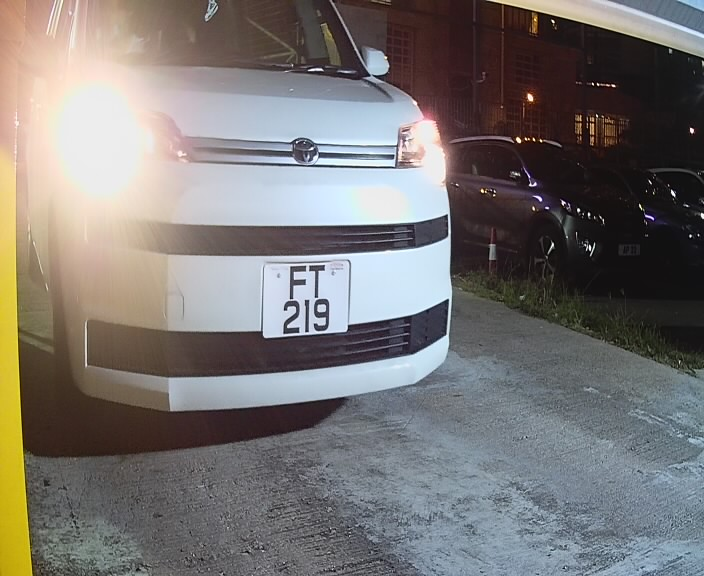Car: (18, 2, 472, 455)
License Plate: (259, 255, 361, 343)
